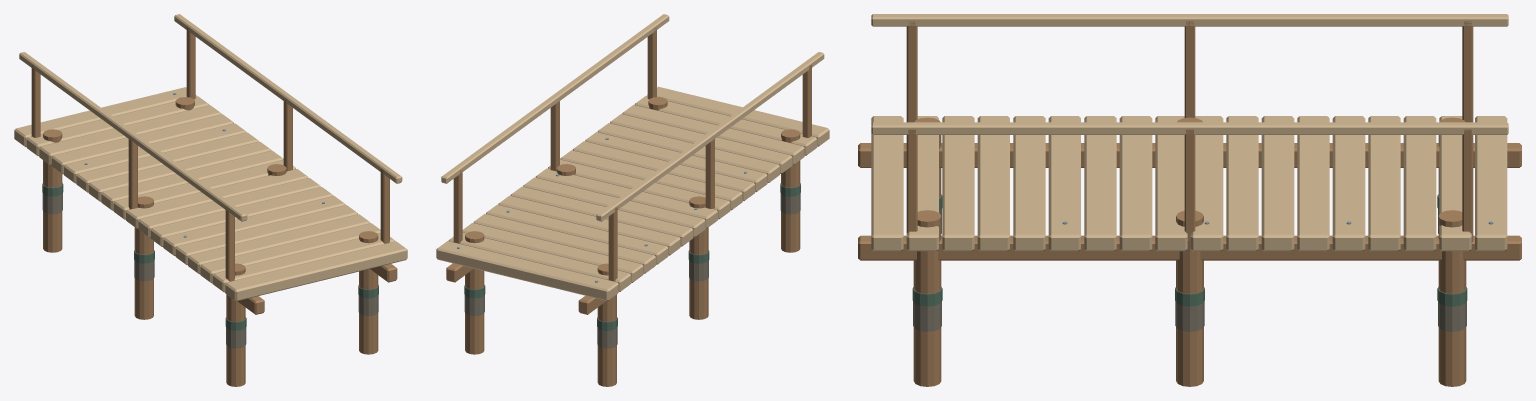
Rendered from wooden_pier.glb.
The picture shows the model from 3 angles, left to right: view 1: azimuth 30°, elevation 25°; view 2: azimuth 150°, elevation 25°; view 3: azimuth 270°, elevation 25°; orthographic projection. The views are drawn at different scales.
Parts seen in each view (by area): view 1: deck_plank (×18), piling (×4), handrail (×2), rail_post (×6), wet_piling_band (×4); view 2: deck_plank (×18), piling (×4), handrail (×2), rail_post (×6), wet_piling_band (×4), deck_beam (×2); view 3: deck_plank (×18), handrail (×2), deck_beam (×2), piling (×3), rail_post (×6), wet_piling_band (×3).
Part boxes in pixels (box(x1,y1,x2,y2)): deck_plank (×18): box(14, 87, 407, 301); piling (×4): box(43, 129, 378, 386); handrail (×2): box(19, 14, 402, 221); rail_post (×6): box(31, 27, 389, 281); wet_piling_band (×4): box(42, 183, 378, 348); deck_plank (×18): box(436, 86, 829, 300); piling (×4): box(465, 129, 800, 386); handrail (×2): box(441, 14, 824, 221); rail_post (×6): box(453, 27, 811, 281); wet_piling_band (×4): box(464, 183, 800, 348); deck_beam (×2): box(446, 210, 730, 314); deck_plank (×18): box(871, 116, 1507, 251); handrail (×2): box(871, 14, 1508, 134); deck_beam (×2): box(858, 143, 1521, 260); piling (×3): box(913, 210, 1466, 386); rail_post (×6): box(906, 21, 1473, 242); wet_piling_band (×3): box(913, 287, 1466, 331).
Size of the model in its own units: 1.85 by 1.89 by 4.3.
